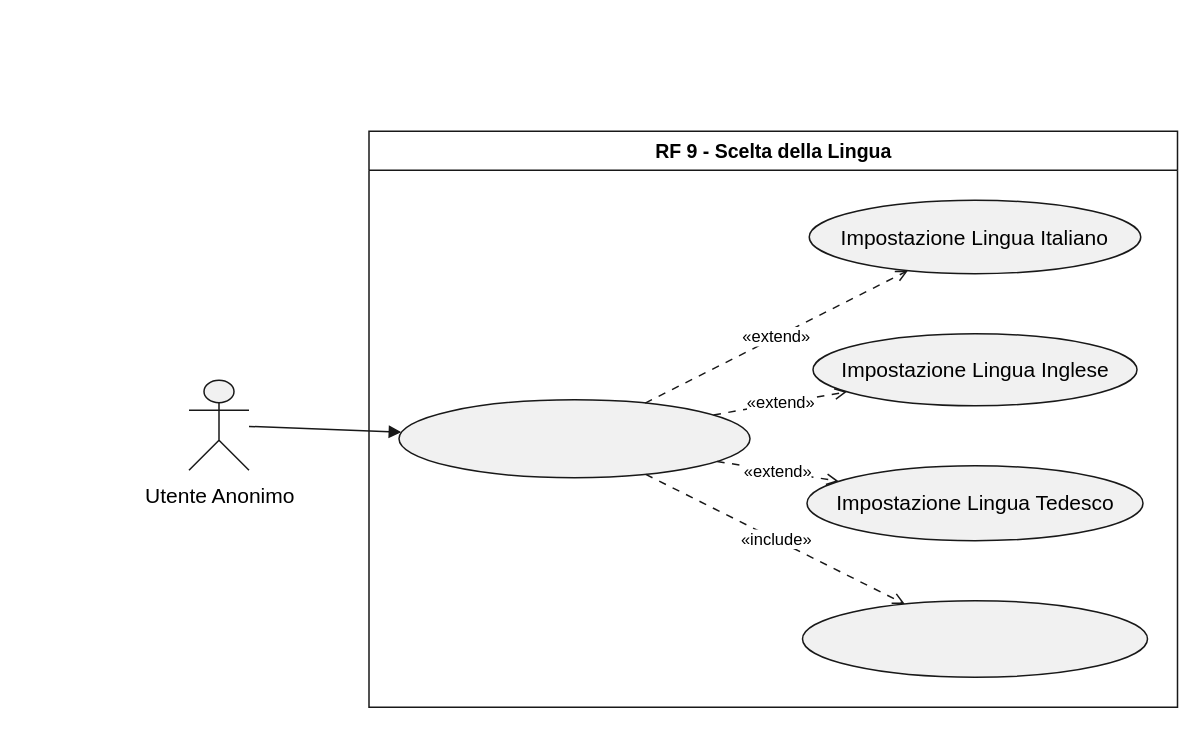
The diagram is 1203 pixels wide and 734 high, and some of its shapes have lost their labels. Each missing label, with the centre of its shape:
Persistenza Preferenza Lingua: (x=974, y=638)
Selezione Lingua Applicazione: (x=574, y=438)
